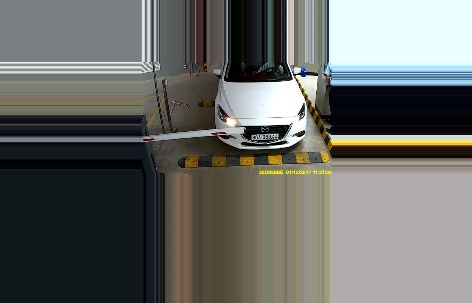plate: (249, 130, 281, 142)
